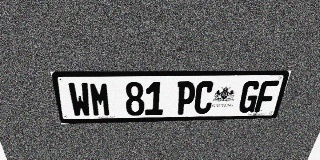1: (145, 82, 164, 115)
8: (125, 82, 144, 116)
C: (193, 81, 215, 114)
F: (254, 80, 279, 112)
G: (237, 81, 262, 113)
M: (89, 82, 111, 117)
P: (175, 81, 196, 115)
W: (67, 82, 92, 117)
